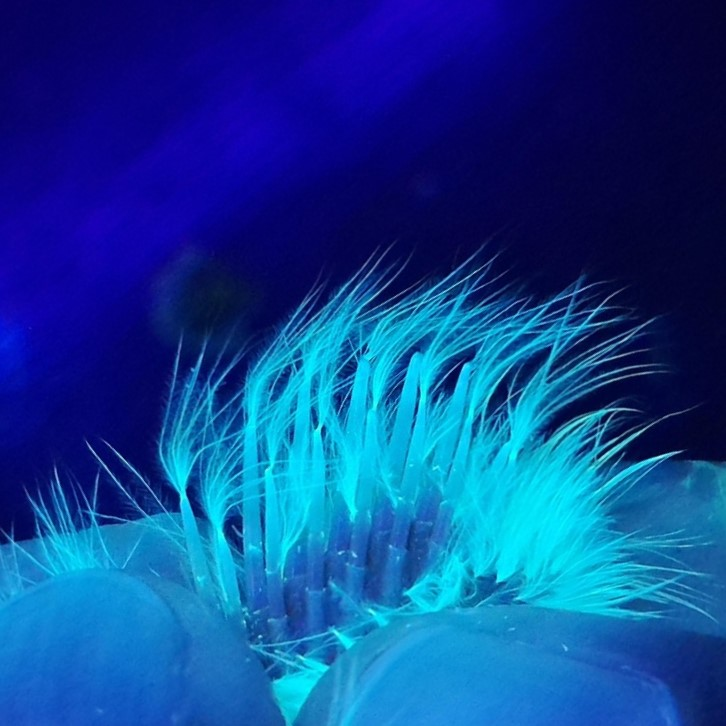female: (235, 343, 513, 669)
